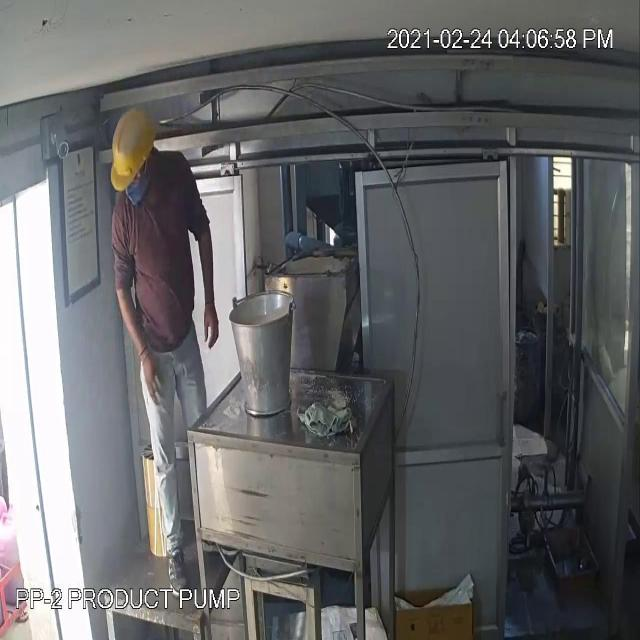helmet: (106, 98, 160, 204)
